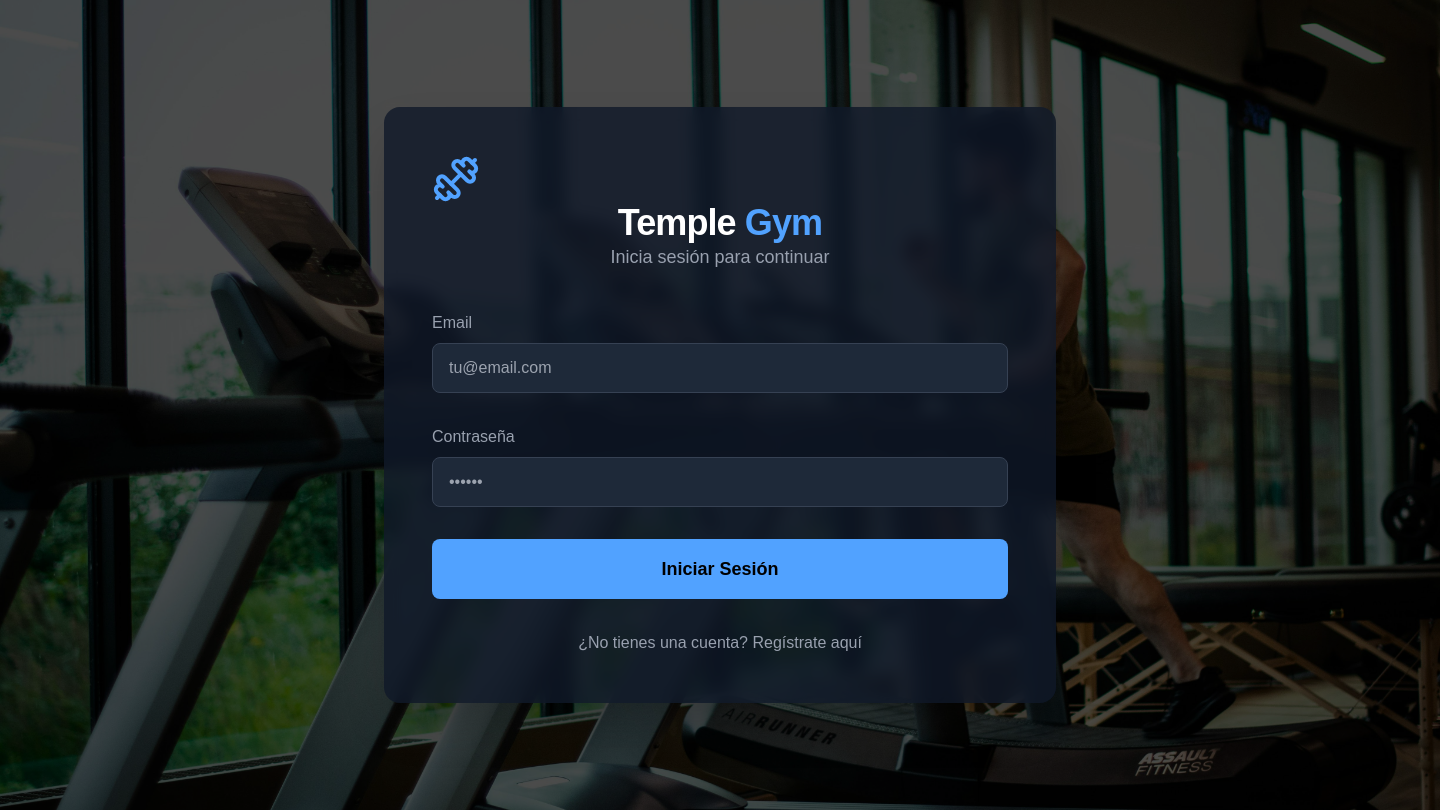
Test: LoginForm › Validation Logic › should show error when password is too short
Type "test@example.com" into the field labelled "Email". click: (720, 368)
box: [432, 343, 1008, 393]
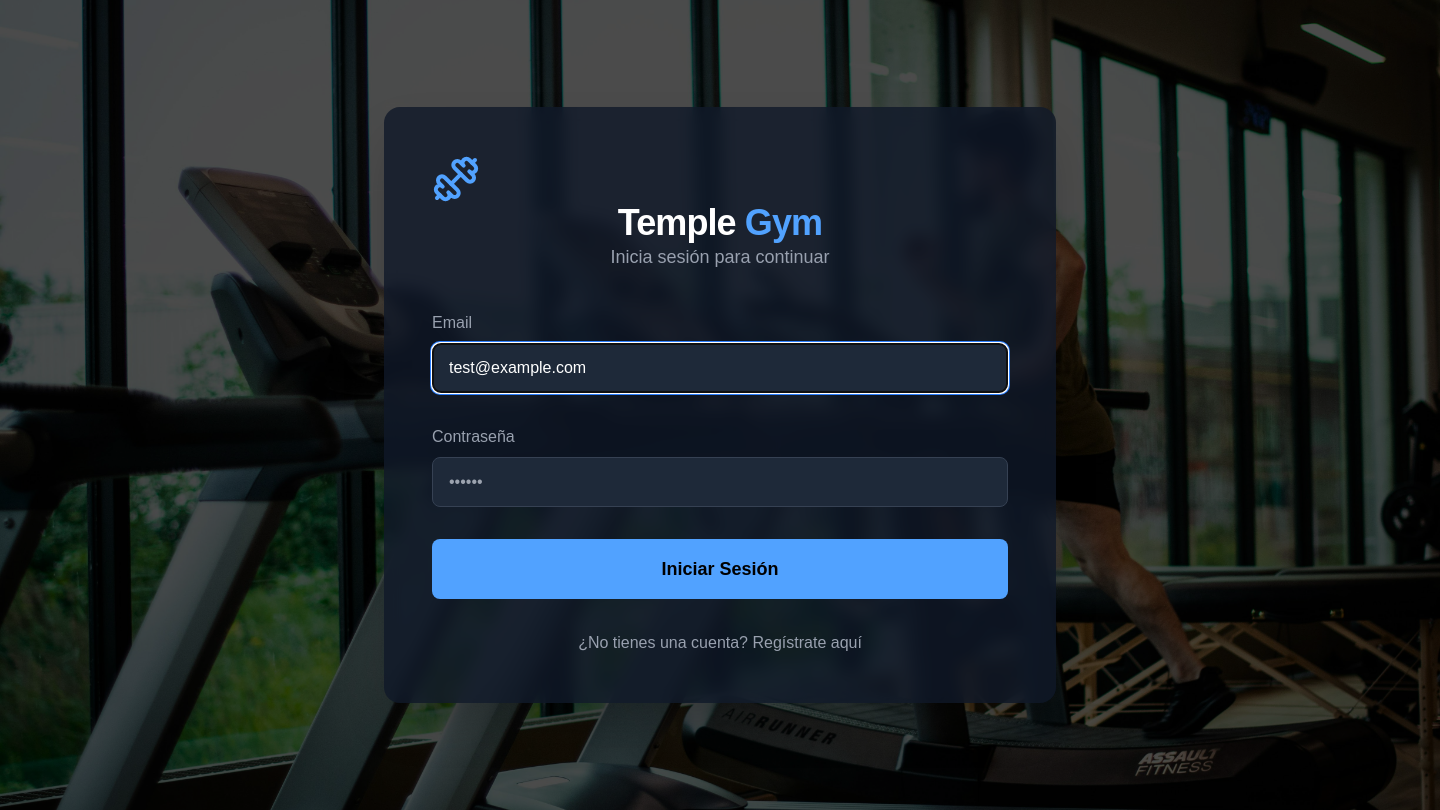
Type "12345" into the password field labelled "Contraseña". click: (720, 482)
box: [432, 457, 1008, 507]
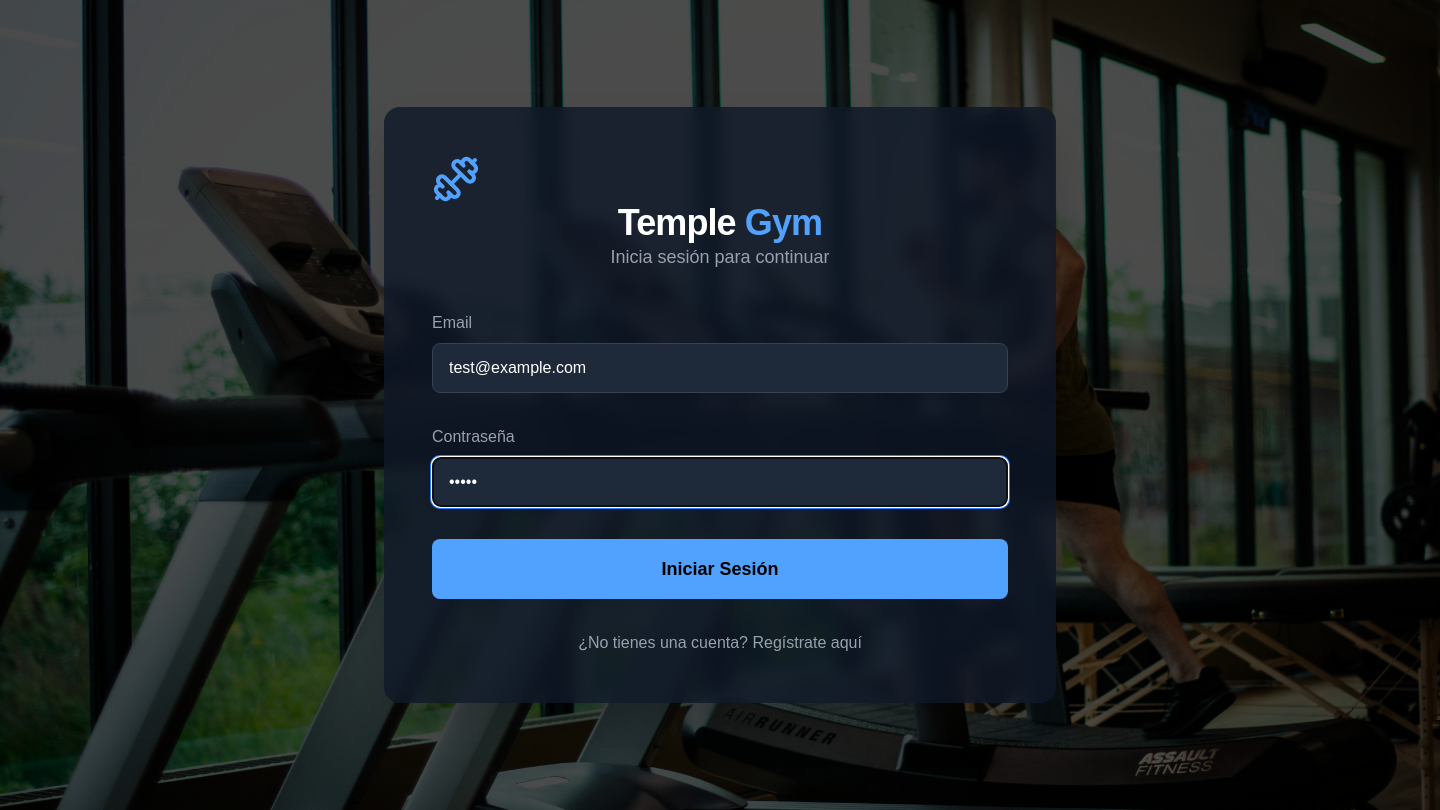
Click the button "Iniciar Sesión". click: (720, 569)
box: [432, 539, 1008, 599]
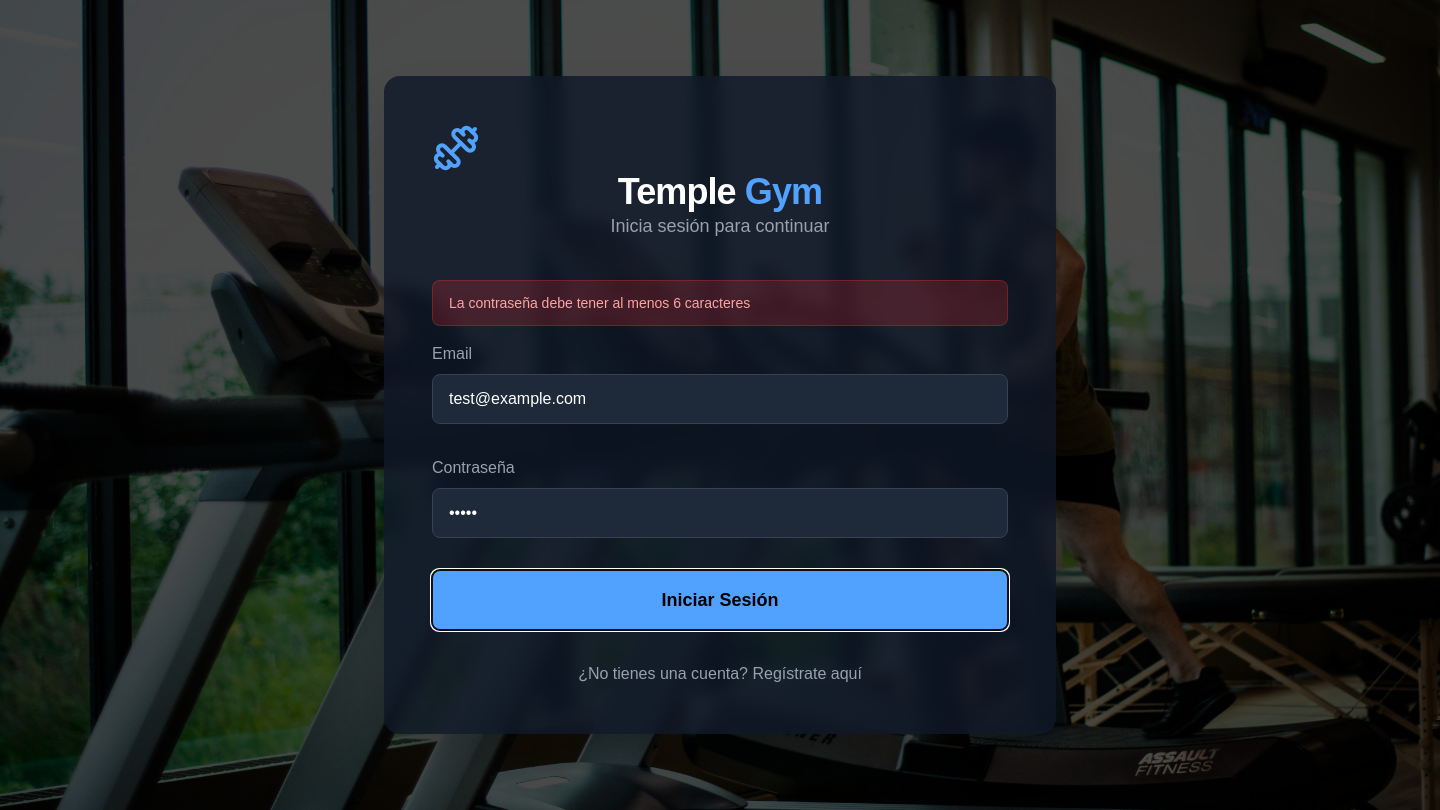
Check: the text "La contraseña debe tener al menos 6 caracteres" is shown, box [432, 280, 1008, 326]
